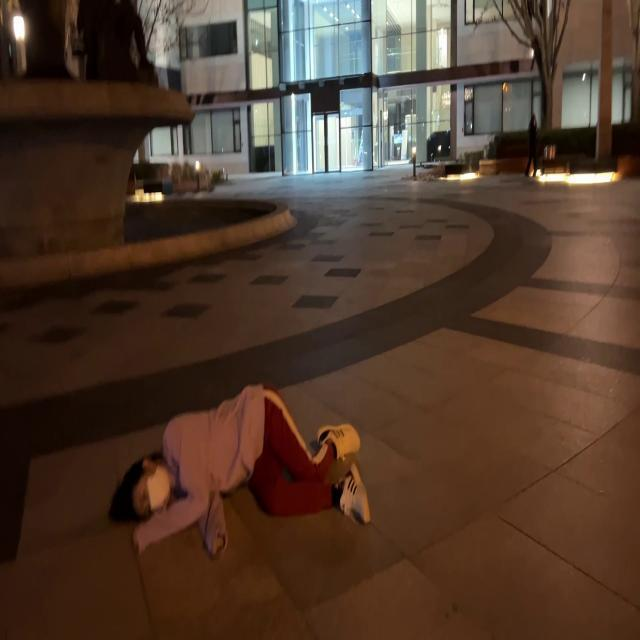Fall: (108, 386, 370, 556)
